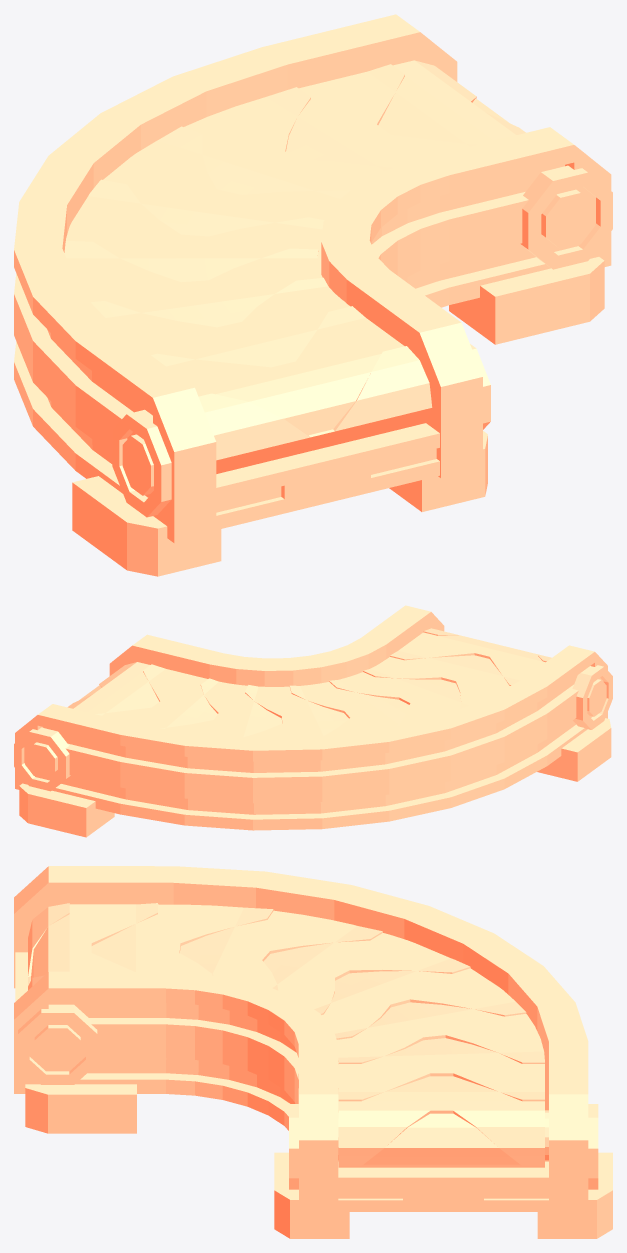
Rendered from belt_curve_l.glb.
The picture shows the model from 3 angles, top to bottom: view 1: azimuth 30°, elevation 25°; view 2: azimuth 150°, elevation 25°; view 3: azimuth 270°, elevation 25°; orthographic projection. The views are drawn at different scales.
Visible parts, largest first — view 1: Conveyor.L, Belt.L, Light.L; view 2: Conveyor.L, Belt.L; view 3: Conveyor.L, Belt.L, Light.L.
Part boxes in pixels (bbox=[...]): Conveyor.L: bbox=[14, 14, 612, 576]; Belt.L: bbox=[64, 60, 525, 473]; Light.L: bbox=[216, 448, 436, 512]; Conveyor.L: bbox=[14, 605, 612, 837]; Belt.L: bbox=[67, 628, 551, 738]; Conveyor.L: bbox=[14, 866, 612, 1238]; Belt.L: bbox=[28, 903, 544, 1167]; Light.L: bbox=[338, 1189, 548, 1198].
Size of the model in its own units: 0.6971 by 0.1732 by 0.6971.
